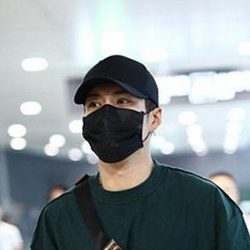mask: (81, 98, 150, 164)
